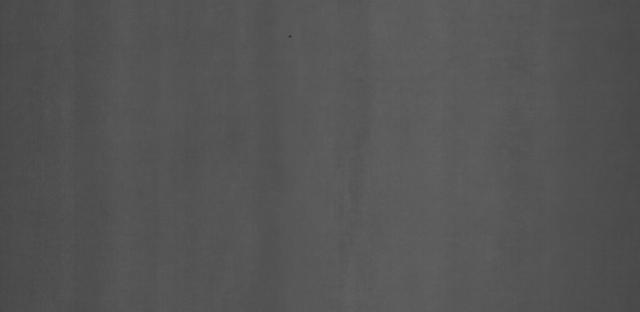inclusion: (276, 30, 296, 50)
